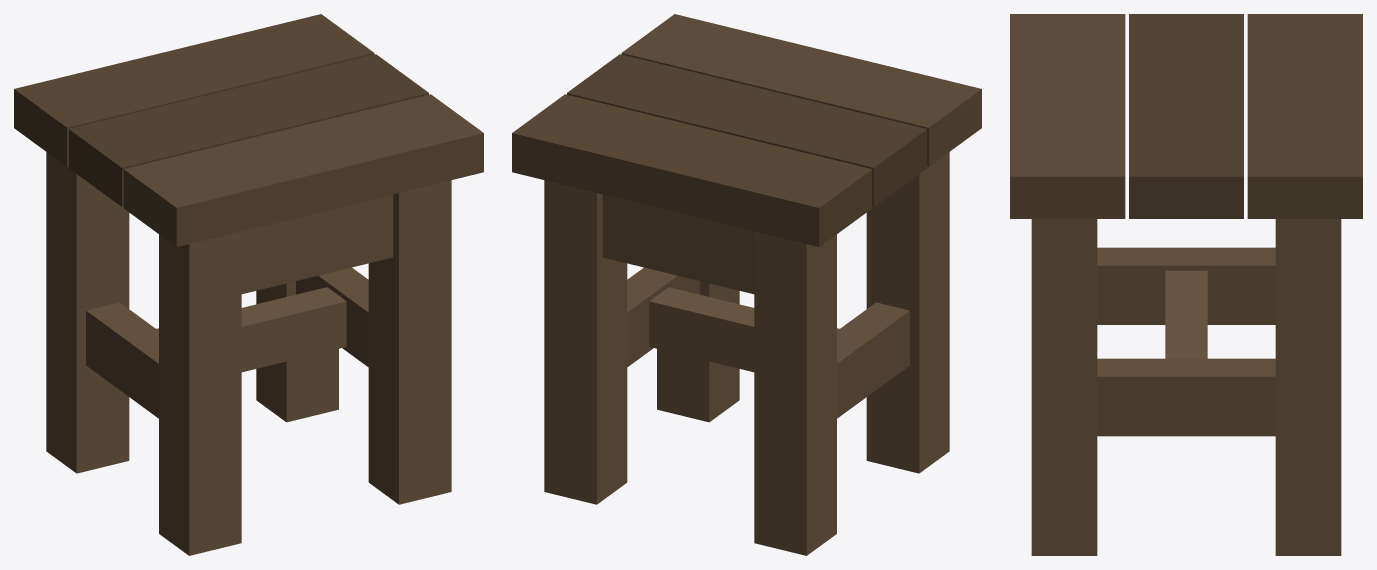
The model's file is ClerkStool.glb.
3 renders of one model, left to right at view 1: azimuth 30°, elevation 25°; view 2: azimuth 150°, elevation 25°; view 3: azimuth 270°, elevation 25°, orthographic. The views are drawn at different scales.
Visible parts, largest first — view 1: ClerkStool; view 2: ClerkStool; view 3: ClerkStool.
Part boxes in pixels (box(x1,y1,x2,y2)): ClerkStool: box(14, 14, 483, 555); ClerkStool: box(512, 14, 981, 555); ClerkStool: box(1010, 14, 1362, 555).
Bounding box in the file's own units: 0.41 × 0.46 × 0.376.
